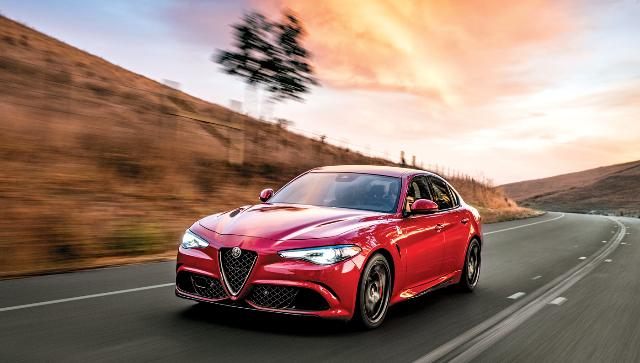alpha-romeo: (173, 164, 484, 332)
